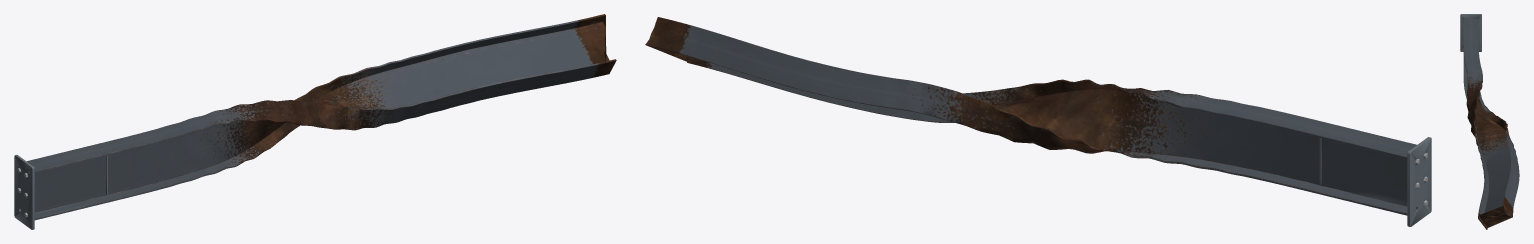
File: industrial_ibeam_twisted.glb
3 views of the same model, side by side, from view 1: azimuth 30°, elevation 25°; view 2: azimuth 150°, elevation 25°; view 3: azimuth 270°, elevation 25° (orthographic). The views are drawn at different scales.
Visible parts, largest first — view 1: industrial_ibeam_twisted_paint; view 2: industrial_ibeam_twisted_paint; view 3: industrial_ibeam_twisted_paint.
Part boxes in pixels (<box>): industrial_ibeam_twisted_paint: <box>14,14,616,229</box>; industrial_ibeam_twisted_paint: <box>645,17,1431,226</box>; industrial_ibeam_twisted_paint: <box>1460,14,1519,229</box>.
Size of the model in its own units: 4.72 by 0.5017 by 0.6561.
3 materials, 1 textured.
